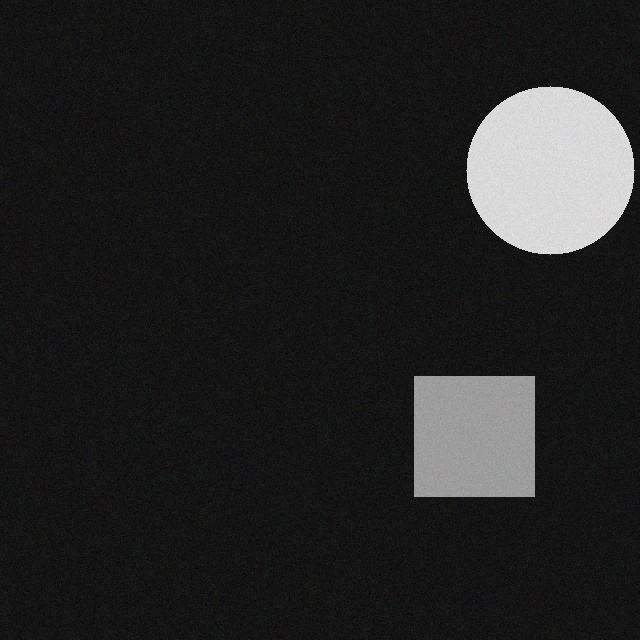circle: (456, 93, 624, 261)
square: (404, 383, 524, 503)
